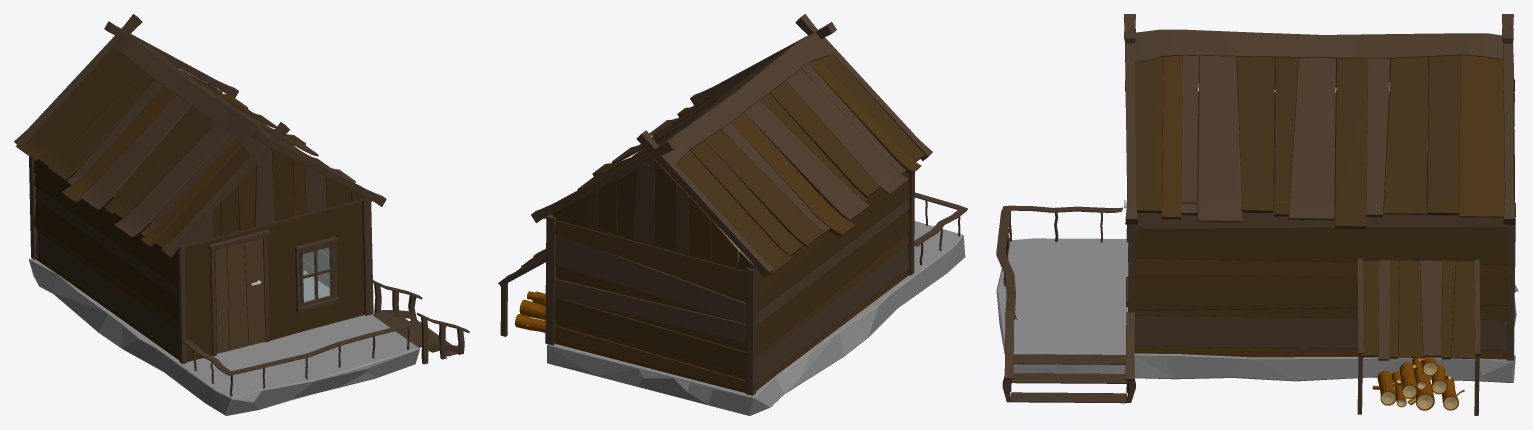
File: Cabin.fbx
3 views of the same model, side by side, from view 1: azimuth 30°, elevation 25°; view 2: azimuth 150°, elevation 25°; view 3: azimuth 270°, elevation 25° (orthographic). The views are drawn at different scales.
Visible parts, largest first — view 1: Walls, Roof, Base_Floor, Door2, Window; view 2: Walls, Roof, Base_Floor, Pile_of_wood; view 3: Roof, Walls, Base_Floor, Pile_of_wood.
Boxes of the visible parts, x1=… form: Walls: x1=29, y1=70, x2=373, y2=363; Roof: x1=14, y1=14, x2=386, y2=257; Base_Floor: x1=29, y1=258, x2=469, y2=415; Door2: x1=214, y1=237, x2=265, y2=353; Window: x1=300, y1=244, x2=333, y2=306; Walls: x1=498, y1=96, x2=914, y2=395; Roof: x1=531, y1=14, x2=932, y2=277; Base_Floor: x1=547, y1=192, x2=967, y2=415; Pile_of_wood: x1=515, y1=291, x2=545, y2=332; Roof: x1=1124, y1=14, x2=1515, y2=228; Walls: x1=1126, y1=53, x2=1515, y2=415; Base_Floor: x1=996, y1=205, x2=1518, y2=403; Pile_of_wood: x1=1372, y1=347, x2=1464, y2=410.
Bounding box in the file's own units: 29.34 × 23.96 × 37.21.
